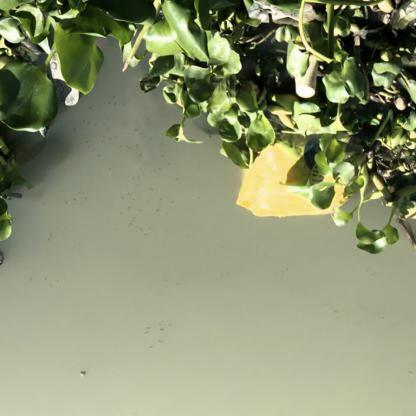Trash: (232, 135, 348, 219)
